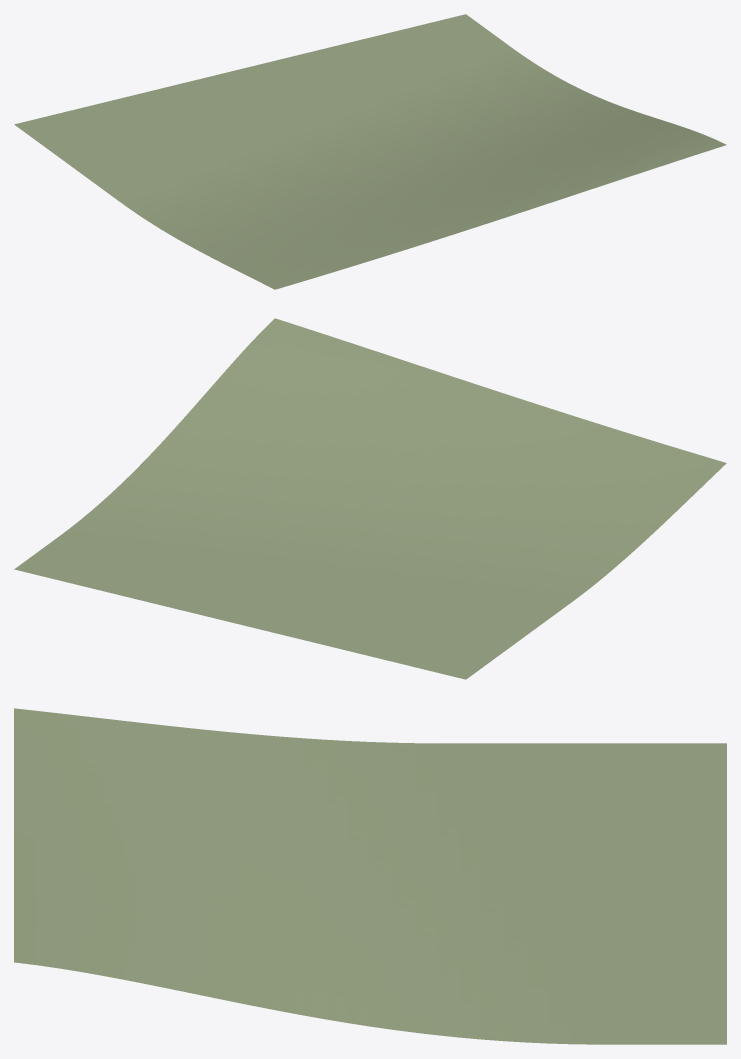
File: valley-5-8.glb
The picture shows the model from 3 angles, top to bottom: view 1: azimuth 30°, elevation 25°; view 2: azimuth 150°, elevation 25°; view 3: azimuth 270°, elevation 25°; orthographic projection. The views are drawn at different scales.
Parts seen in each view (by area): view 1: valley-5-8; view 2: valley-5-8; view 3: valley-5-8.
Part boxes in pixels (x1,y1,x2,y2): valley-5-8: (14, 14, 726, 289); valley-5-8: (14, 318, 726, 679); valley-5-8: (14, 708, 726, 1044).
Bounding box in the file's own units: 256 × 32.57 × 256.
